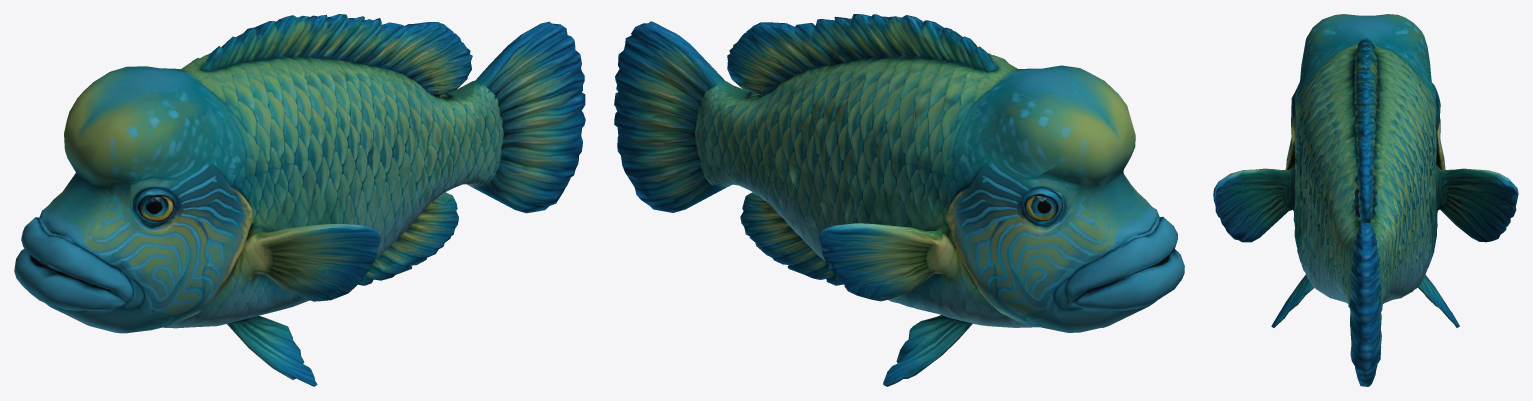
Rendered from fish-napoleon.glb.
The picture shows the model from 3 angles, left to right: view 1: azimuth 30°, elevation 25°; view 2: azimuth 150°, elevation 25°; view 3: azimuth 270°, elevation 25°; orthographic projection. The views are drawn at different scales.
Visible parts, largest first — view 1: tripo_node_fbe0174e-49b4-4a38-9a28-124d0794779c; view 2: tripo_node_fbe0174e-49b4-4a38-9a28-124d0794779c; view 3: tripo_node_fbe0174e-49b4-4a38-9a28-124d0794779c.
Part boxes in pixels (x1,y1,x2,y2): tripo_node_fbe0174e-49b4-4a38-9a28-124d0794779c: (14,14,585,386); tripo_node_fbe0174e-49b4-4a38-9a28-124d0794779c: (614,14,1184,386); tripo_node_fbe0174e-49b4-4a38-9a28-124d0794779c: (1213,14,1518,386).
Bounding box in the file's own units: 1 × 0.5559 × 0.5401.
Materials: 1 (1 with a texture image).
